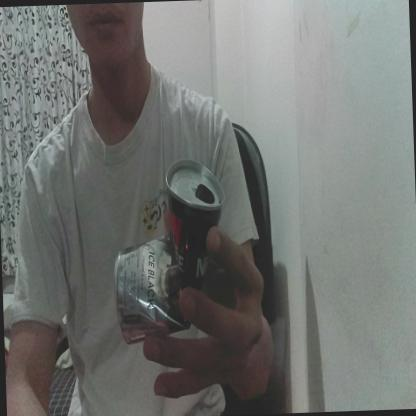alumunium_can: (108, 155, 228, 344)
